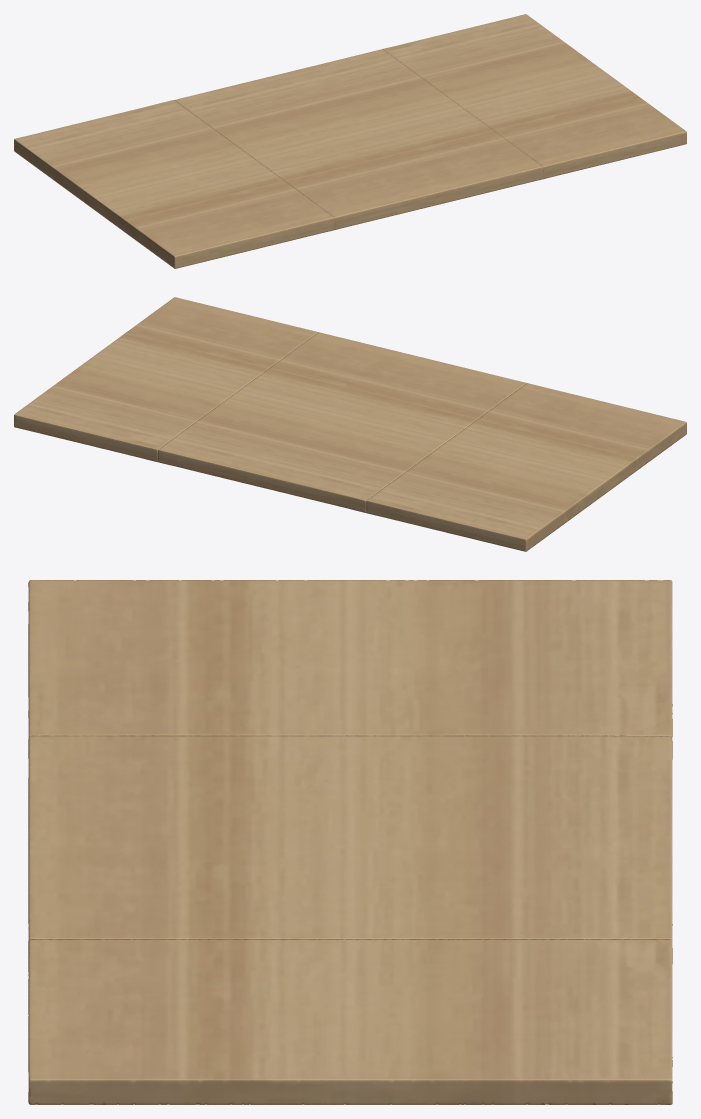
Rendered from bed_zone_floor.raw.glb.
The picture shows the model from 3 angles, top to bottom: view 1: azimuth 30°, elevation 25°; view 2: azimuth 150°, elevation 25°; view 3: azimuth 270°, elevation 25°; orthographic projection. The views are drawn at different scales.
Visible parts, largest first — view 1: world; view 2: world; view 3: world.
Part boxes in pixels (x1=…): world: x1=14, y1=14, x2=686, y2=268; world: x1=14, y1=297, x2=686, y2=551; world: x1=28, y1=580, x2=672, y2=1104.
Size of the model in its own units: 1 by 0.0243 by 0.5443.
Materials: 1 (1 with a texture image).
